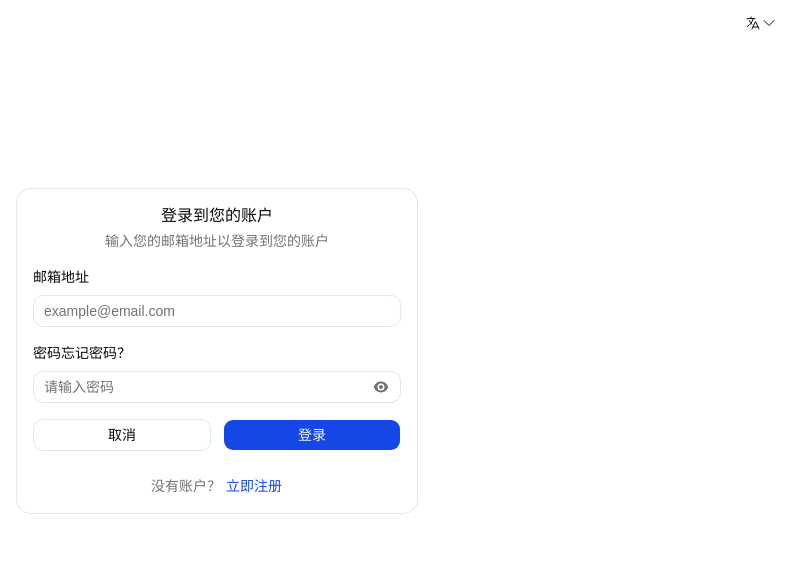
it: SignInPage › 表单提交 › 应该显示重新发送按钮（邮箱未验证时）
In the field labelled "邮箱地址": [217, 311] box [33, 295, 401, 327], type "user@example.com"
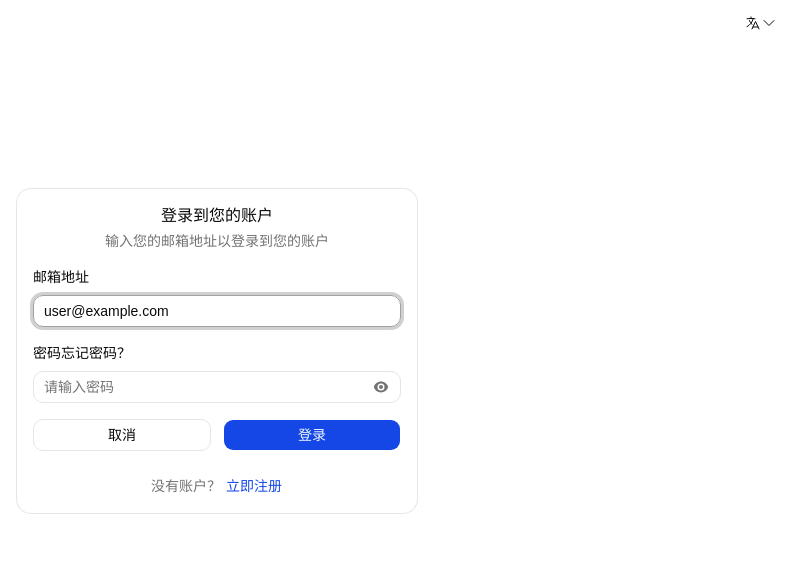
In the password field labelled "密码": [217, 387] box [33, 371, 401, 403], type "password123"
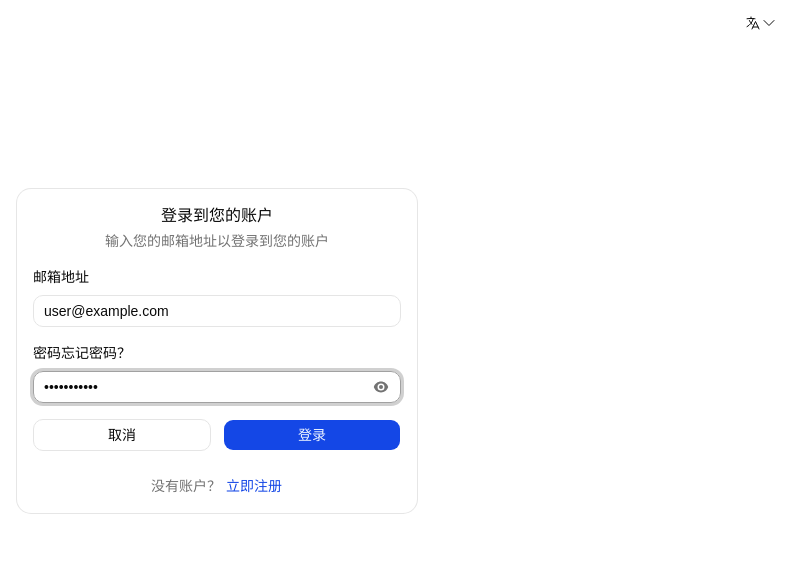
Click the button "登录": [312, 435] box [223, 419, 401, 451]
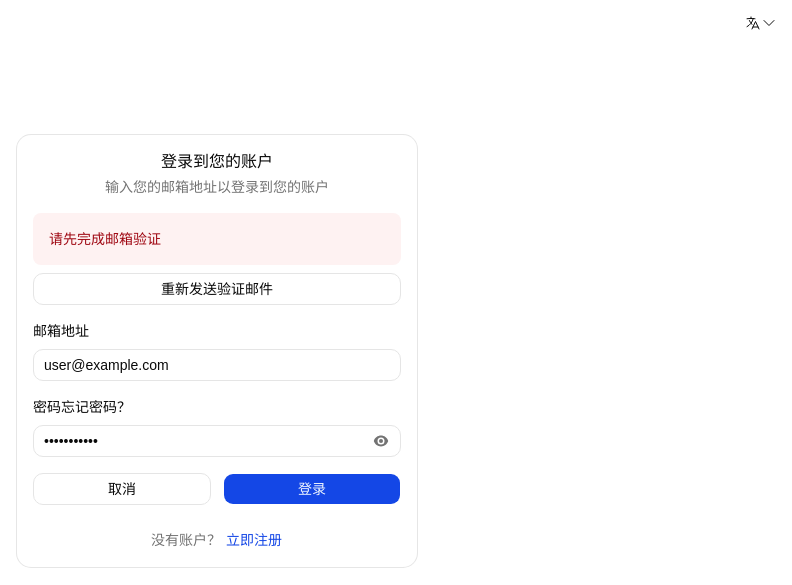
expect the text "请先完成邮箱验证" is shown: met, box [49, 231, 161, 247]
expect the button "重新发送验证邮件" is shown: met, box [33, 273, 401, 305]
